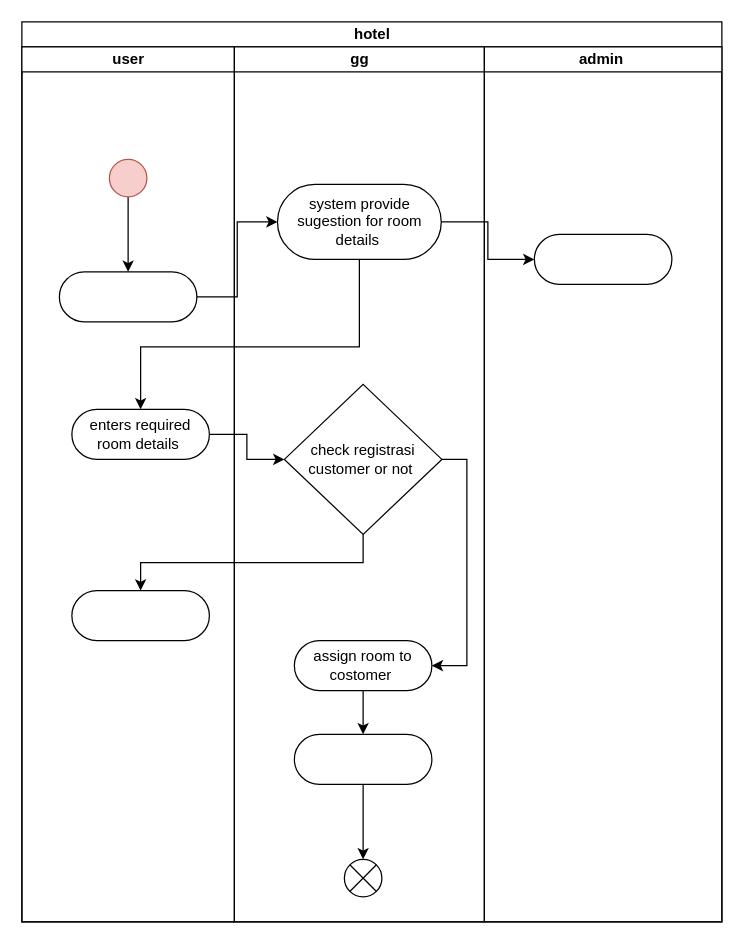
This 744x944 diagram has some shape labels left out. The centre of each missing label's shape, as x and y in pixels:
"enter customer details dan create customer record" belongs at point (140, 615).
"guest receive confirmation innvoice" belongs at point (362, 758).
"input room details" belongs at point (602, 258).
"inquires about reservation" belongs at point (127, 296).
